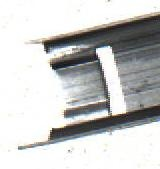press: (21, 18, 148, 149)
